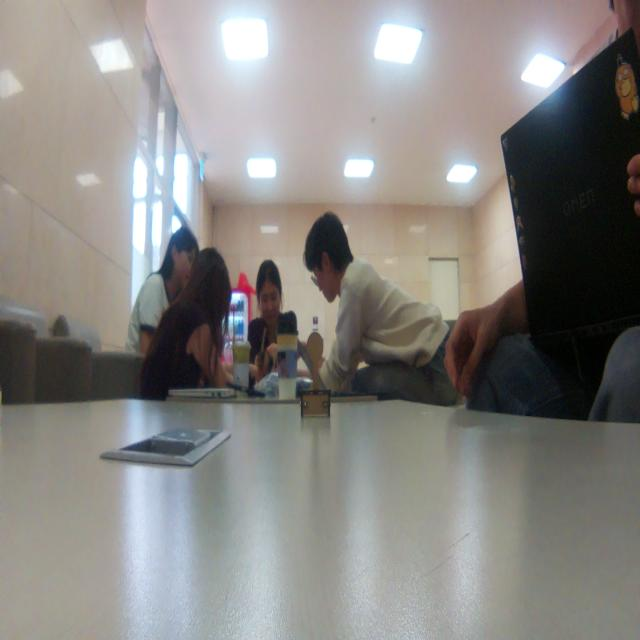target: (300, 328, 332, 421)
